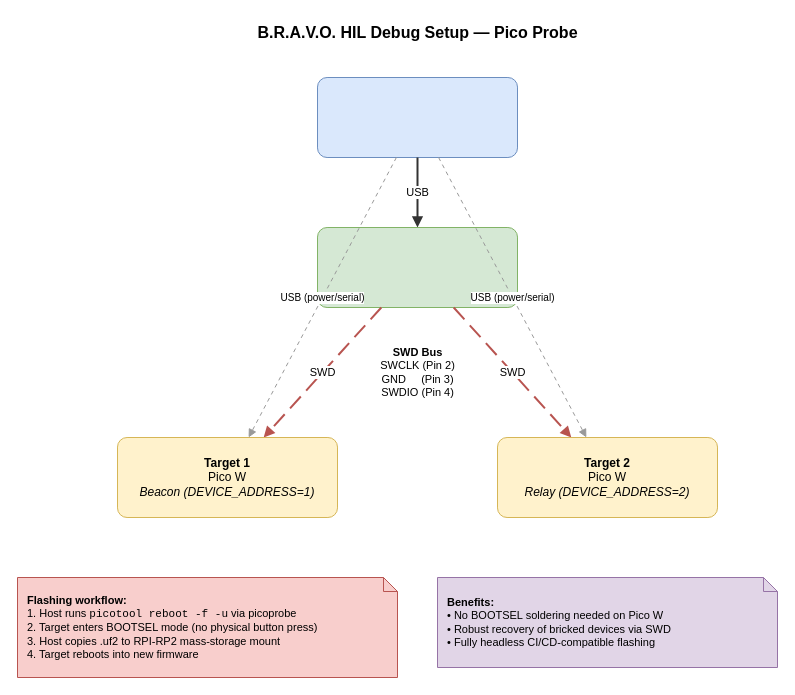
Some shapes in this 795 by 695 pixel diagram are drawn without their labels. The centre of each missing label's shape, as x and y in pixels:
Debugger Pico H #1 picoprobe firmware: (x=417, y=267)
Host Raspberry Pi 4B Runs HIL scripts: (x=417, y=117)
